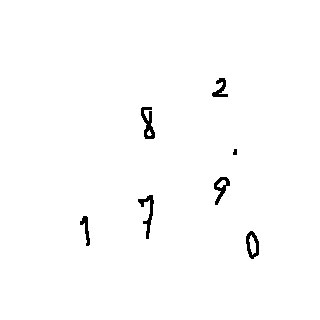.: (227, 144, 244, 164)
0: (238, 224, 272, 270)
1: (72, 209, 101, 249)
2: (203, 71, 234, 109)
7: (135, 191, 164, 245)
8: (128, 101, 168, 152)
9: (208, 170, 237, 210)
